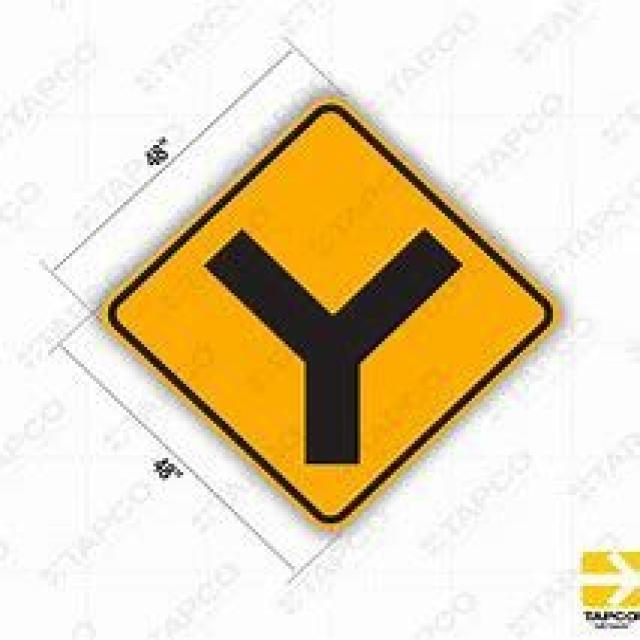y intersection: (103, 92, 548, 525)
